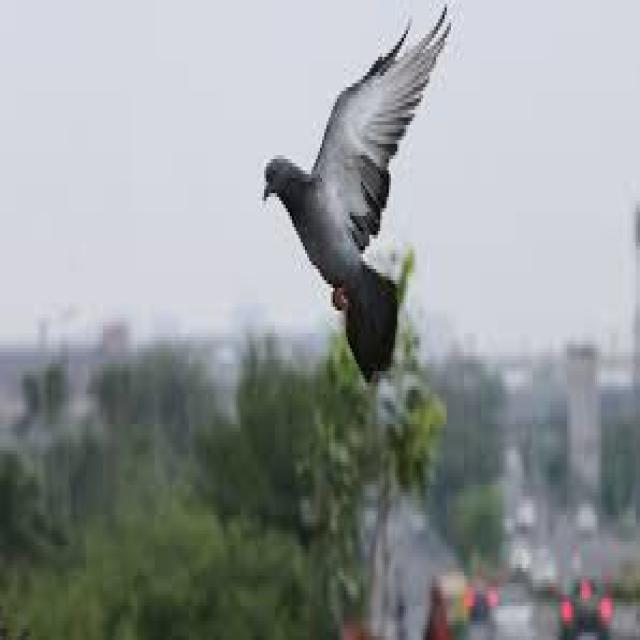pigeon: (244, 18, 444, 378)
